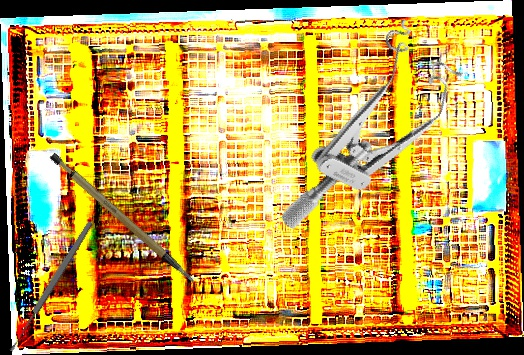Scalpel Handle: (47, 136, 197, 305)
Speculum: (278, 8, 474, 266)
Surgical Spoon: (6, 220, 95, 353)
